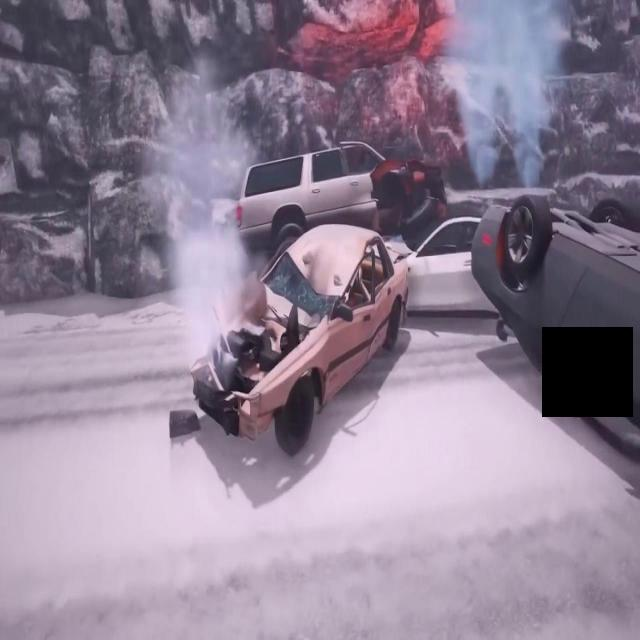accident: (186, 216, 417, 465), (233, 142, 512, 325), (466, 180, 640, 456)
